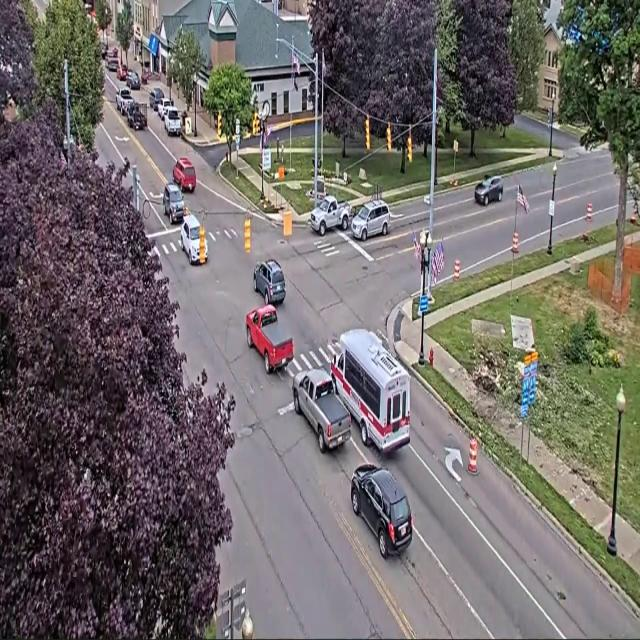car: (351, 464, 412, 558), (351, 200, 390, 241), (253, 260, 285, 304), (180, 215, 201, 264), (163, 184, 185, 223), (475, 176, 503, 206), (173, 157, 196, 191), (164, 107, 182, 136), (156, 97, 173, 119), (149, 88, 164, 111), (127, 71, 140, 89), (117, 65, 128, 80), (106, 58, 118, 71), (107, 47, 119, 59), (101, 43, 108, 59)
traffic signal: (244, 216, 251, 253), (199, 226, 205, 263), (365, 117, 370, 150), (252, 112, 259, 135), (407, 133, 412, 162), (386, 124, 391, 151), (547, 107, 553, 126), (217, 112, 221, 138)
truck: (292, 369, 350, 453), (246, 304, 293, 373), (309, 196, 351, 236), (127, 102, 147, 129), (116, 88, 134, 114)
